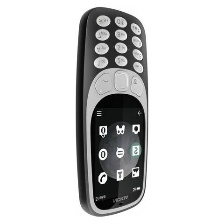phone: (68, 4, 153, 221)
